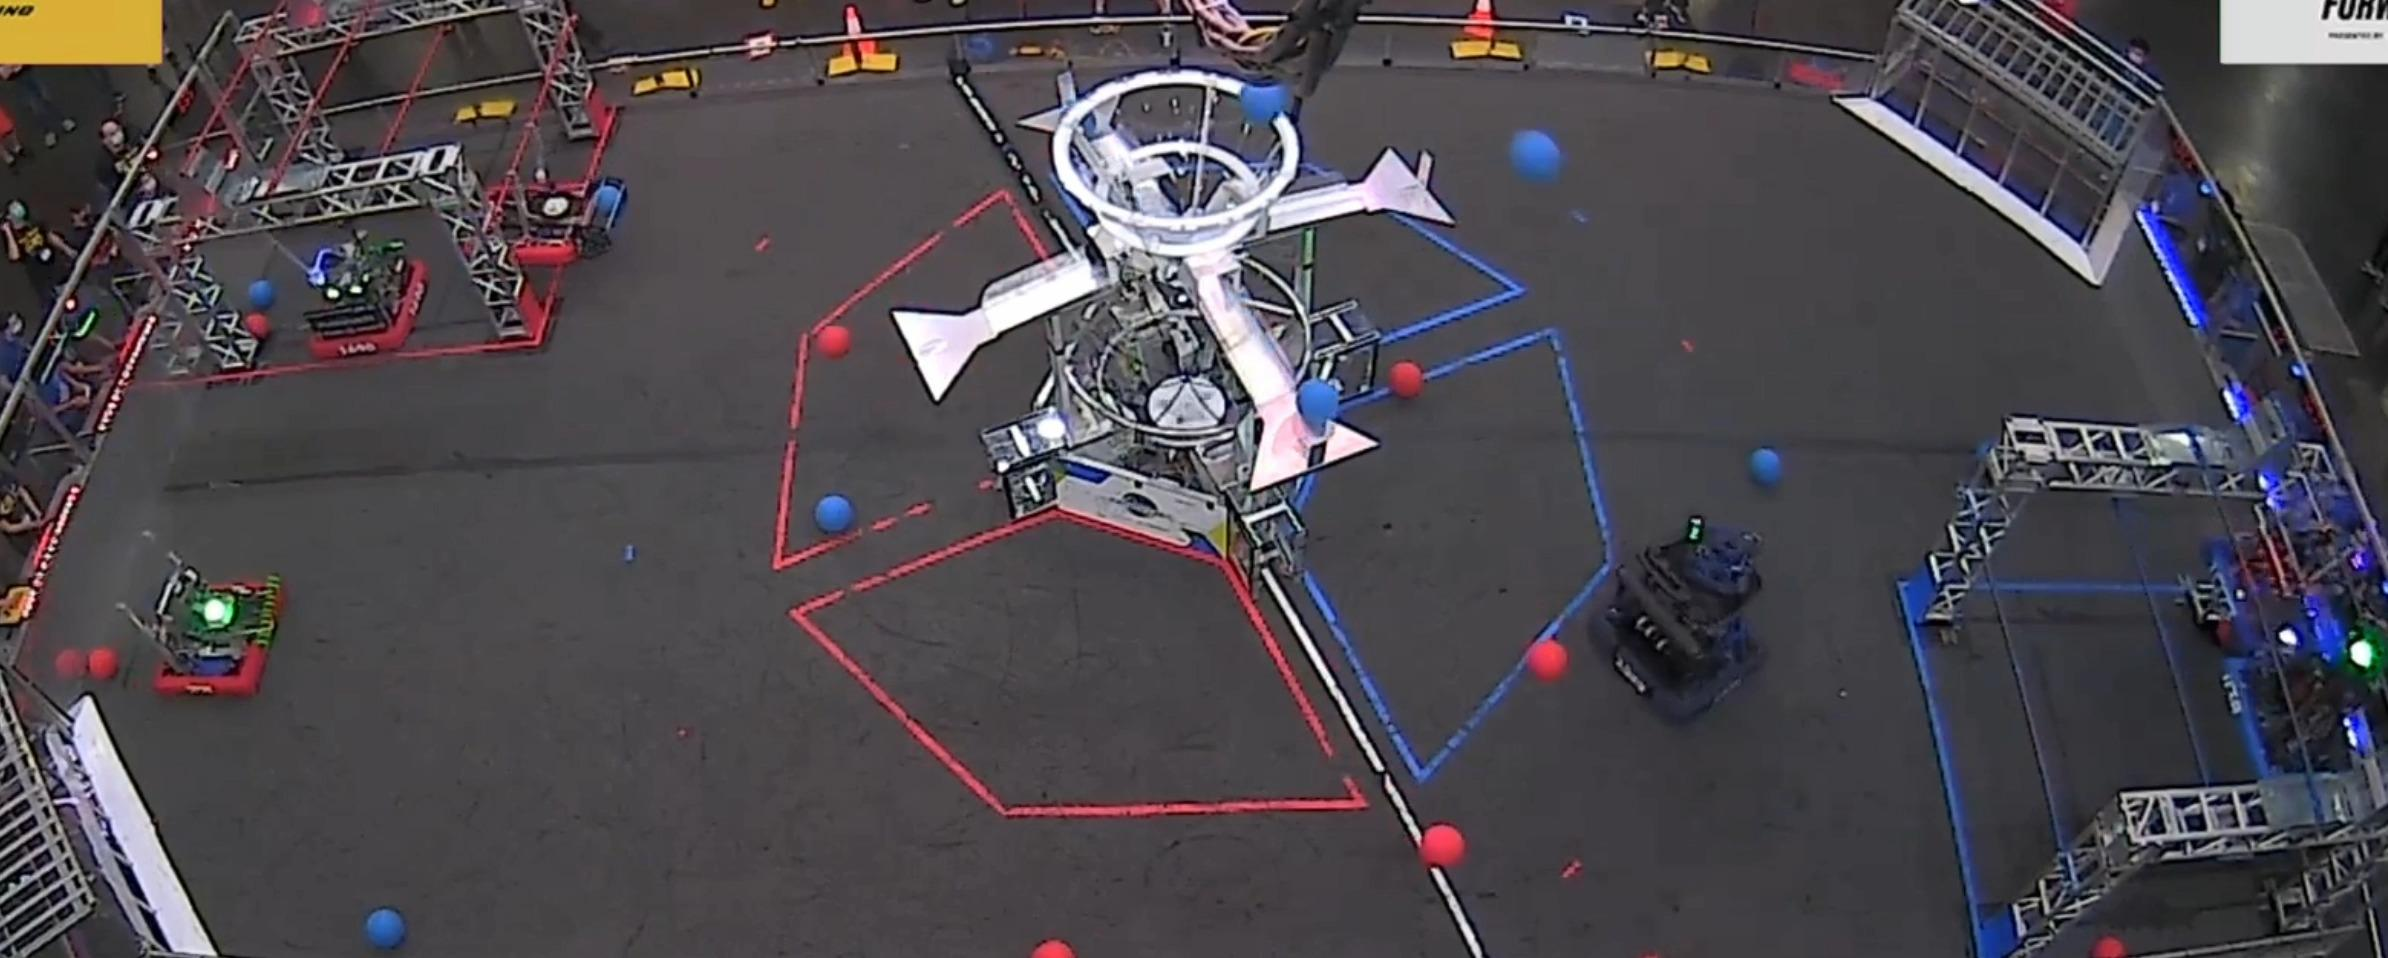Robots: (1601, 515, 1782, 720), (2230, 617, 2386, 769), (137, 554, 283, 696), (2205, 518, 2353, 632), (300, 228, 423, 355), (509, 177, 621, 263)
